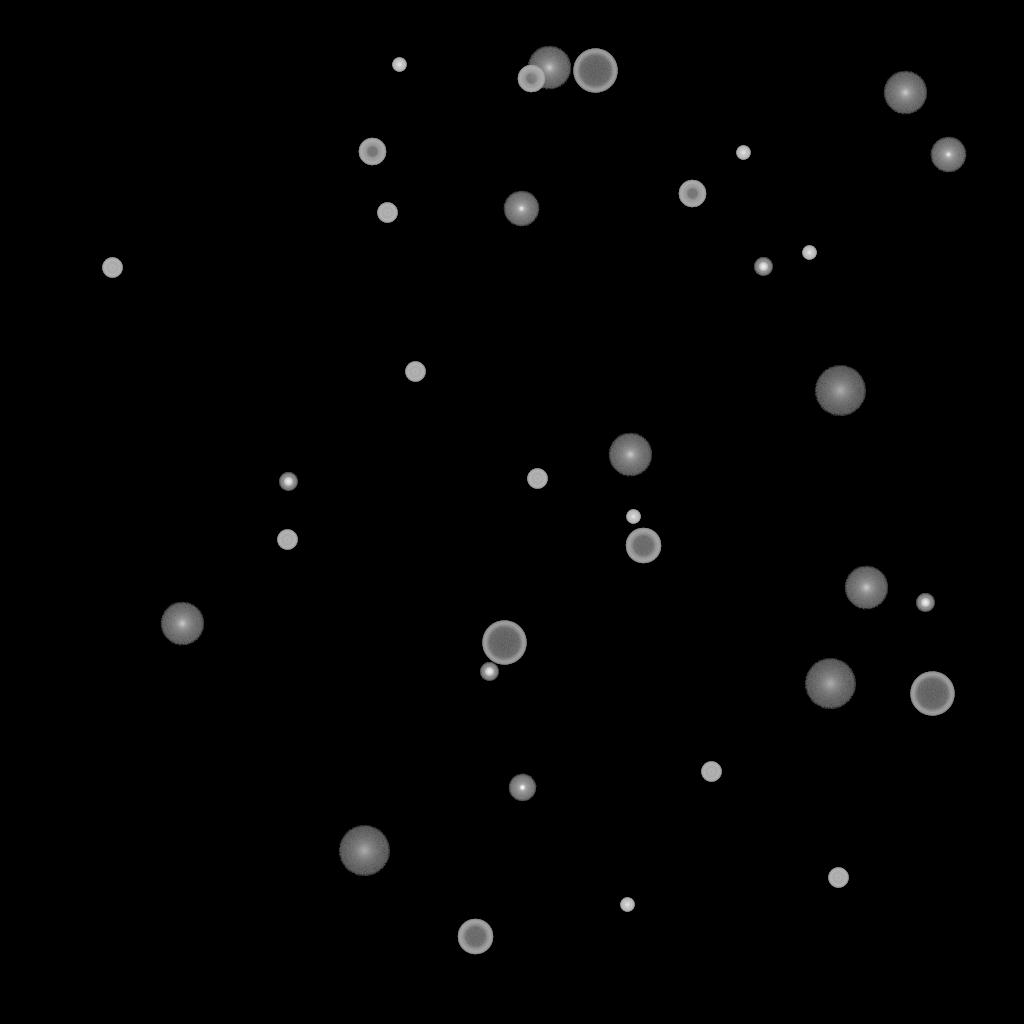depth:-10: (508, 774, 536, 802)
depth:-20: (754, 258, 772, 276), (480, 663, 498, 681), (916, 594, 934, 612), (279, 473, 297, 491)
depth:-30: (626, 510, 640, 524), (620, 898, 634, 912), (802, 246, 816, 260), (736, 146, 750, 160), (392, 58, 406, 72)
depth:-40: (377, 203, 397, 223), (527, 469, 547, 489), (102, 258, 122, 278), (277, 530, 297, 550), (405, 362, 425, 382), (701, 762, 721, 782), (828, 868, 848, 888)
depth:-50: (358, 138, 386, 166), (678, 180, 706, 208), (517, 65, 545, 93)
depth:-60: (457, 919, 493, 955), (625, 528, 661, 564)
depth:-70: (910, 672, 954, 716), (482, 621, 526, 665), (573, 49, 617, 93)
depth:0: (930, 137, 966, 173), (503, 191, 539, 227)
depth:10: (844, 566, 888, 610), (608, 433, 652, 477), (160, 602, 204, 646), (883, 71, 927, 115), (527, 46, 571, 90)
depth:20: (814, 366, 866, 416), (804, 659, 856, 709), (338, 826, 390, 876)
